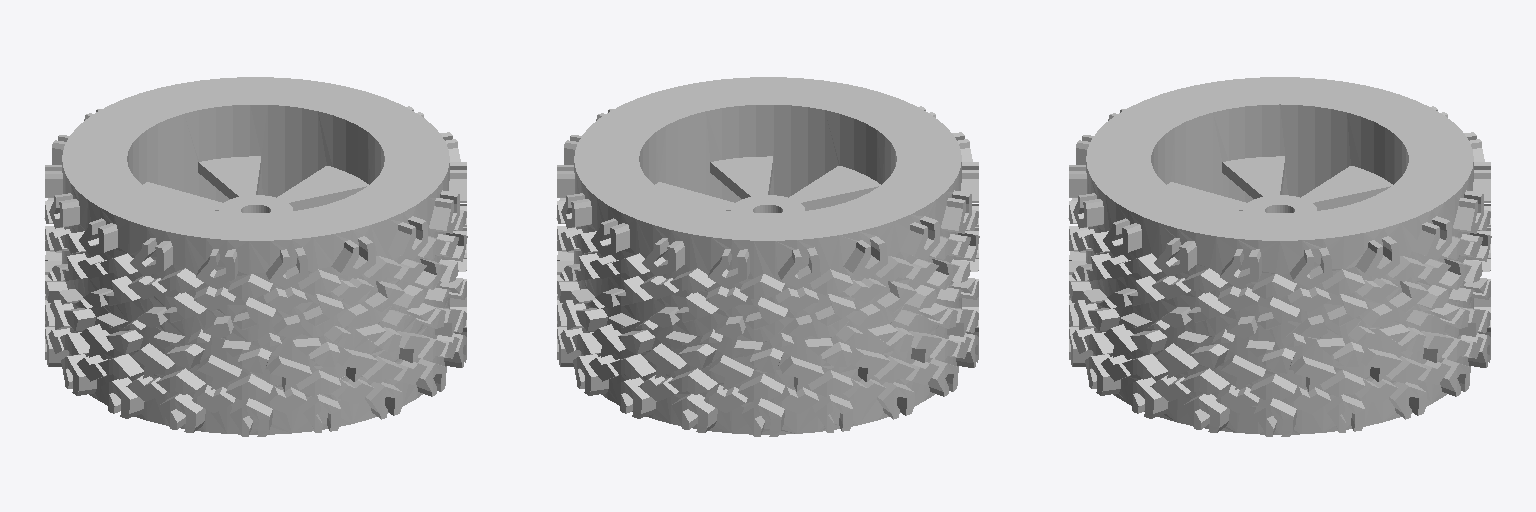
File: rccar_tire_left.obj
3 views of the same model, side by side, from view 1: azimuth 30°, elevation 25°; view 2: azimuth 150°, elevation 25°; view 3: azimuth 270°, elevation 25° (orthographic).
Parts seen in each view (by area): view 1: wheel; view 2: wheel; view 3: wheel.
Boxes of the visible parts, <box> form: wheel: <box>44,77,467,436</box>; wheel: <box>556,77,979,436</box>; wheel: <box>1068,77,1491,436</box>.
Size of the model in its own units: 0.1699 by 0.0855 by 0.1691.